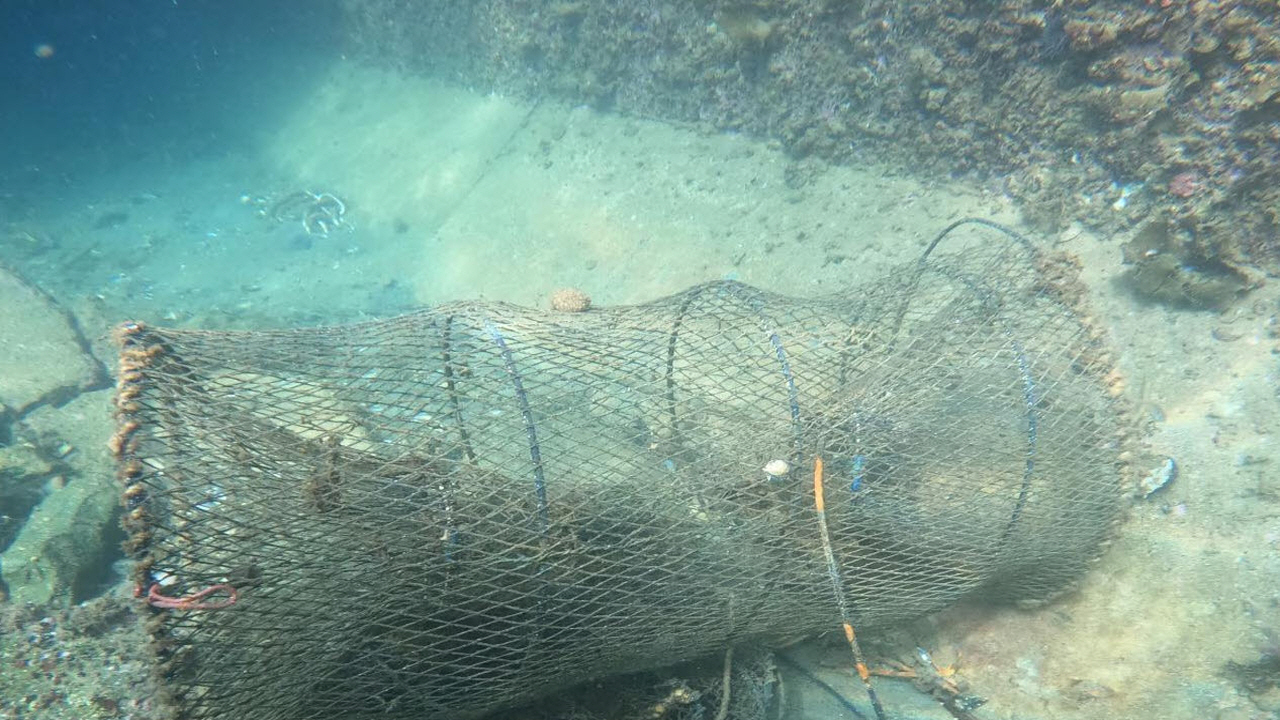spring fish trap: (110, 217, 1129, 720)
